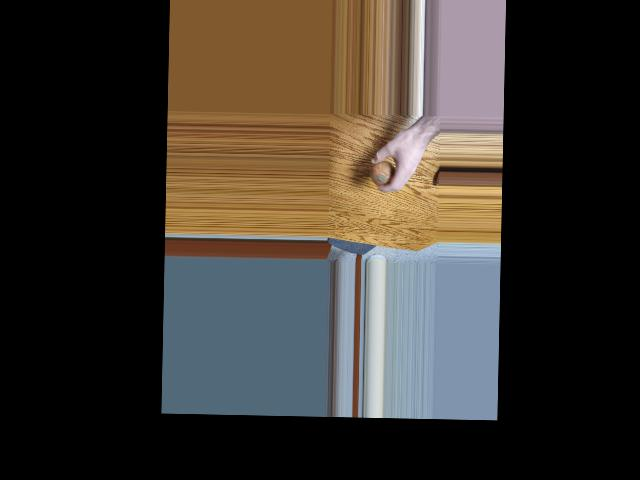onion: (369, 160, 394, 187)
